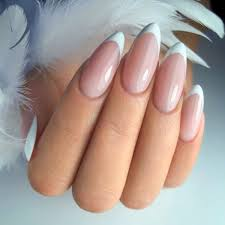nail: (79, 31, 125, 100), (122, 22, 161, 96), (151, 39, 187, 112), (179, 84, 205, 145), (21, 106, 38, 162)
